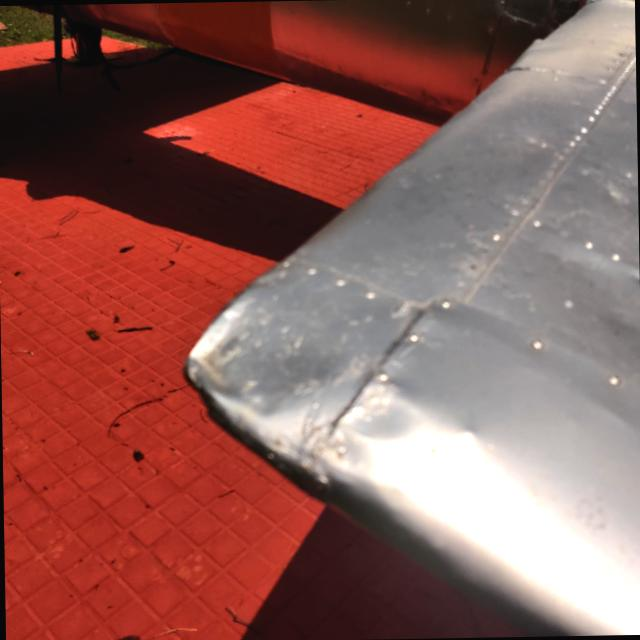dent: (152, 269, 330, 430)
